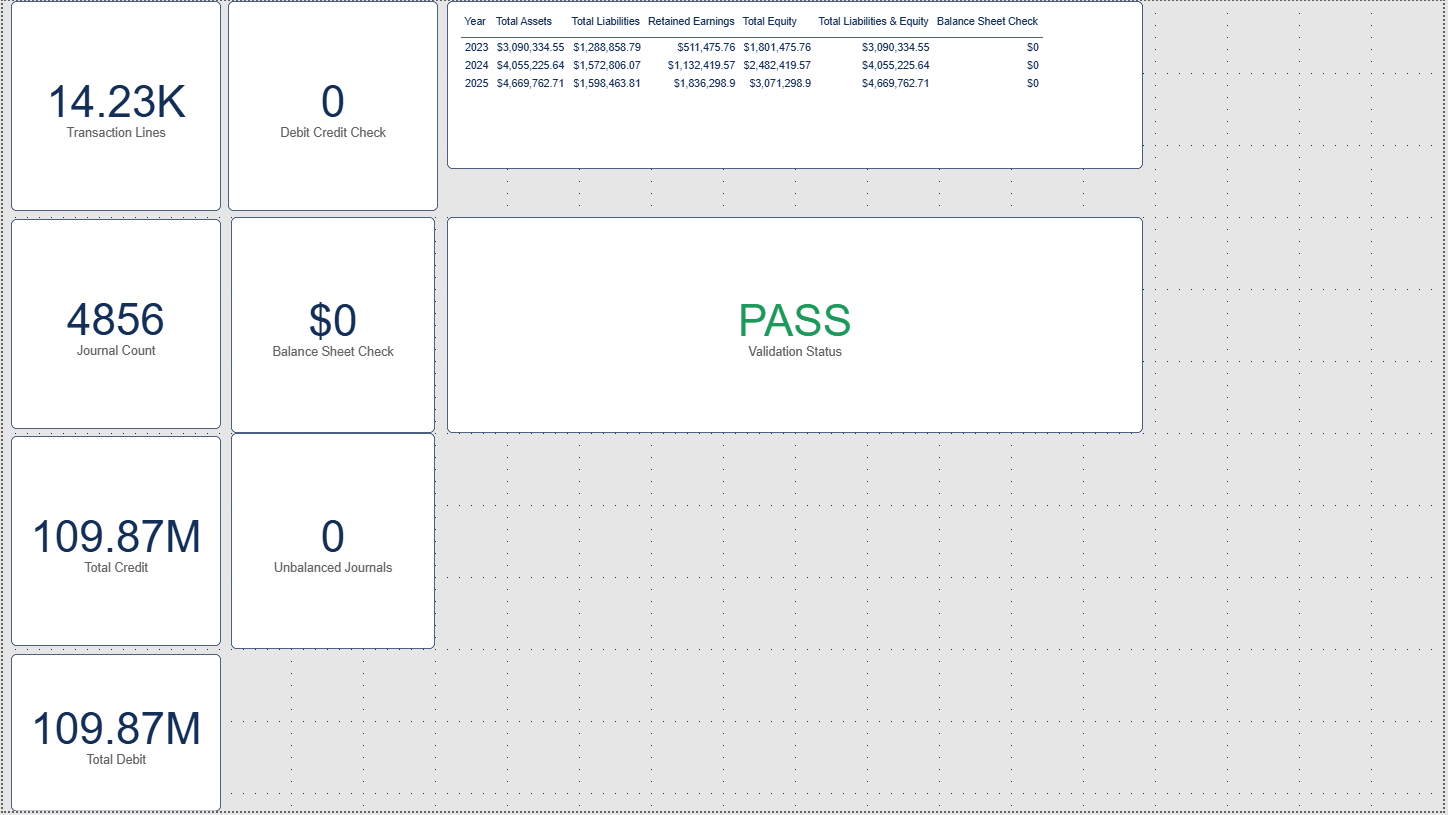

This screenshot's page, from the dashboard's own definition file:
{"tool":"powerbi","page":{"name":"Data Validation","canvas":[1920,1080],"ordinal":2},"visuals":[{"type":"card","fields":{"Values":["MeasuresTable.Transaction Lines"]},"box":[10,0,280,280],"z":0},{"type":"card","fields":{"Values":["MeasuresTable.Journal Count"]},"box":[10,290,280,280],"z":1000},{"type":"card","fields":{"Values":["MeasuresTable.Total Credit"]},"box":[10,580,280,280],"z":2000},{"type":"card","fields":{"Values":["MeasuresTable.Total Debit"]},"box":[10,870,280,210],"z":3000},{"type":"card","fields":{"Values":["MeasuresTable.Debit Credit Check"]},"box":[300,0,280,280],"z":4000},{"type":"tableEx","fields":{"Values":["DimDate.Year","Measures_.Total Assets","Measures_.Total Liabilities","Measures_.Retained Earnings","Measures_.Total Equity","Measures_.Total Liabilities & Equity","Measures_.Balance Sheet Check"]},"box":[592,0,928,224],"z":4001},{"type":"card","fields":{"Values":["Measures_.Balance Sheet Check"]},"box":[304,288,272,288],"z":4002},{"type":"card","fields":{"Values":["Measures_.Unbalanced Journals"]},"box":[304,576,272,288],"z":4003},{"type":"card","fields":{"Values":["Measures_.Validation Status"]},"box":[592,288,928,288],"z":4004}]}

Visuals, with their boxes in screenshot pixels (x1, y1, x2, y2), scaled from the page's 1920x1080 canvas onto the 1448x815 screenshot:
card - MeasuresTable.Transaction Lines: (8, 0, 219, 211)
card - MeasuresTable.Journal Count: (8, 219, 219, 430)
card - MeasuresTable.Total Credit: (8, 438, 219, 649)
card - MeasuresTable.Total Debit: (8, 657, 219, 814)
card - MeasuresTable.Debit Credit Check: (226, 0, 437, 211)
tableEx - DimDate.Year x Measures_.Total Assets: (446, 0, 1146, 169)
card - Measures_.Balance Sheet Check: (229, 217, 434, 435)
card - Measures_.Unbalanced Journals: (229, 435, 434, 652)
card - Measures_.Validation Status: (446, 217, 1146, 435)
